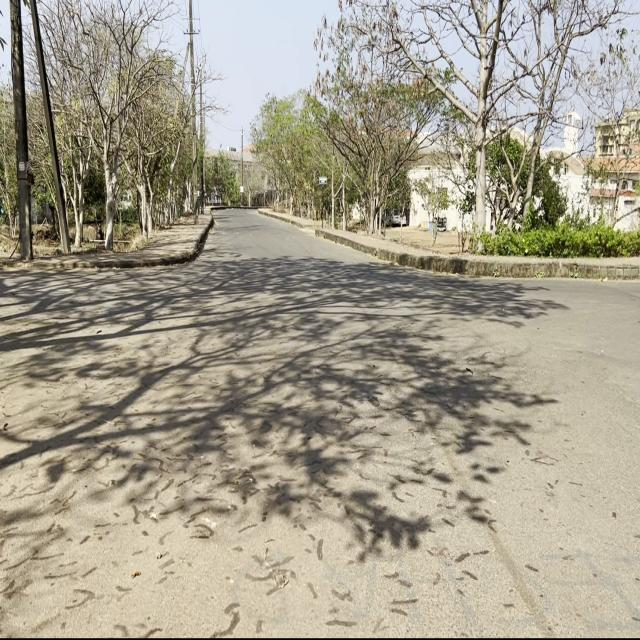Road: (5, 212, 636, 636)
